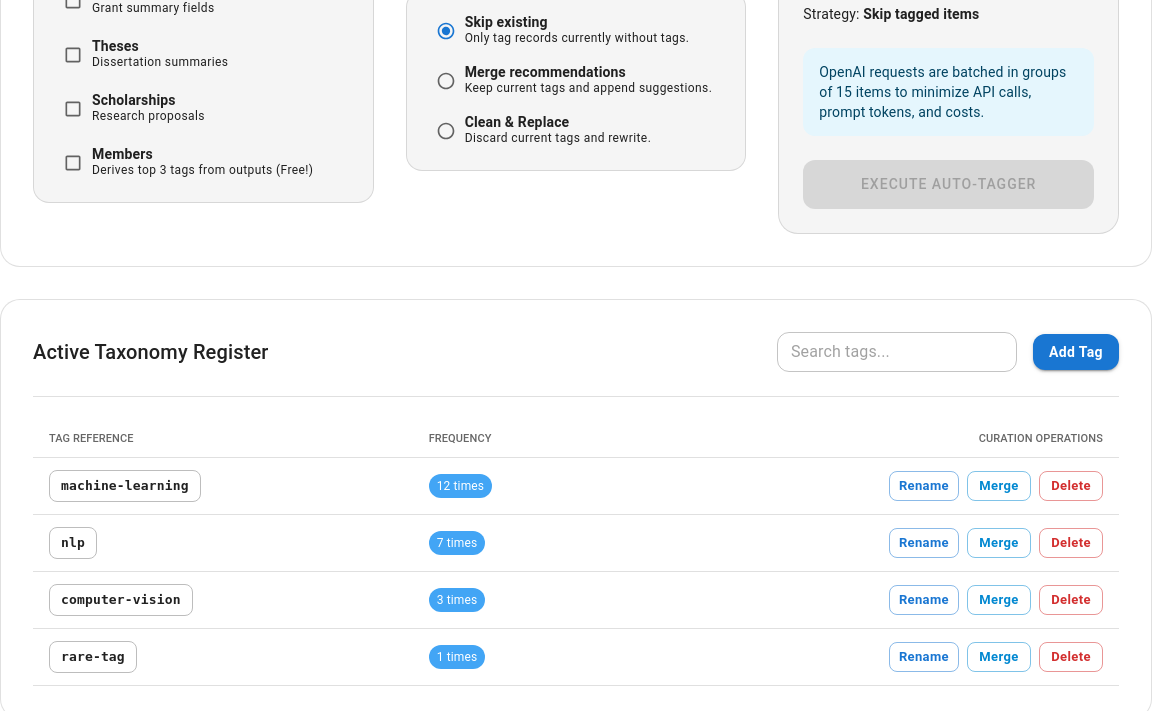
Test: TagsCurationClient › opens the add tag dialog when 'Add Tag' button is clicked
(page scrolled)
What coordinates should you click on to do the following:
click the button "Add Tag"
I would click on:
 (1076, 352)
Its box is [1033,334,1119,370].
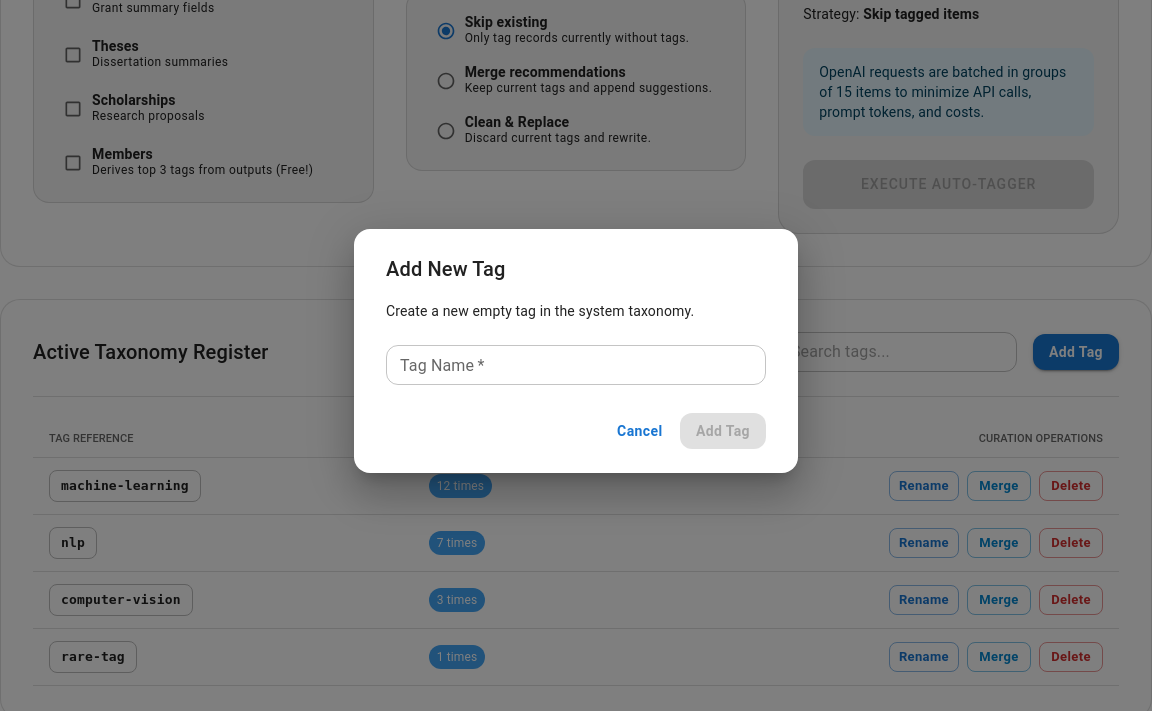
Check: the dialog is shown, box [354,229,798,473]
